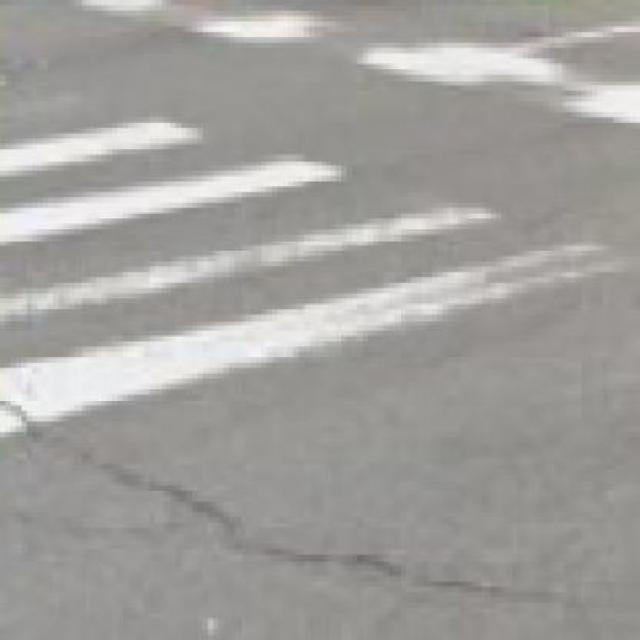crosswalk: (1, 112, 630, 441)
